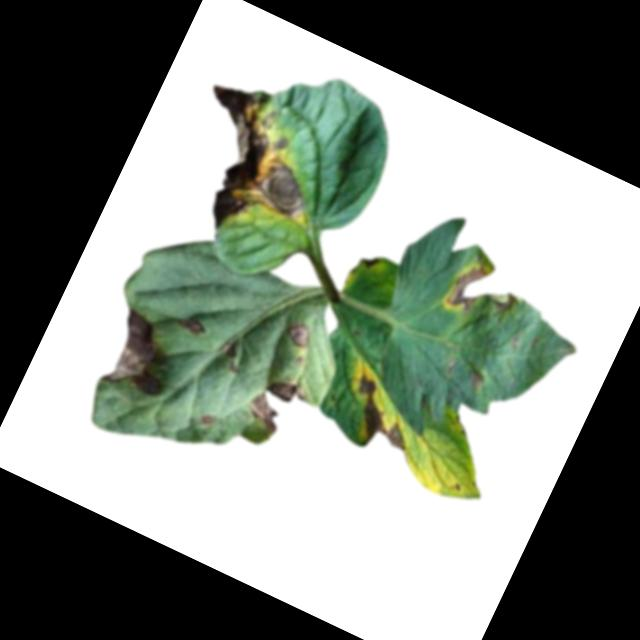Early_blight: (157, 73, 338, 256), (95, 303, 190, 405), (332, 369, 426, 459), (441, 257, 528, 335), (239, 366, 314, 446), (282, 318, 318, 351), (174, 309, 207, 338), (463, 365, 489, 392), (360, 250, 382, 272), (219, 338, 239, 359), (197, 408, 218, 428)
